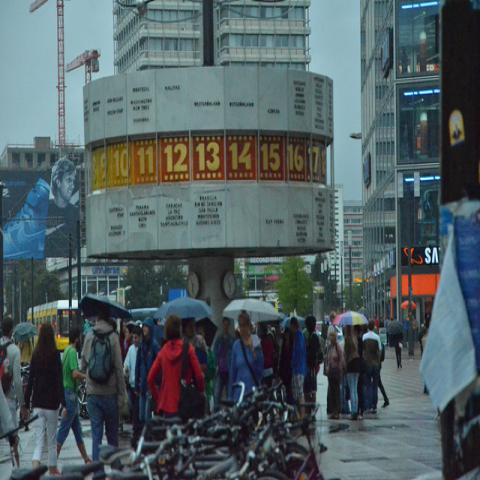bus: (26, 300, 82, 351)
